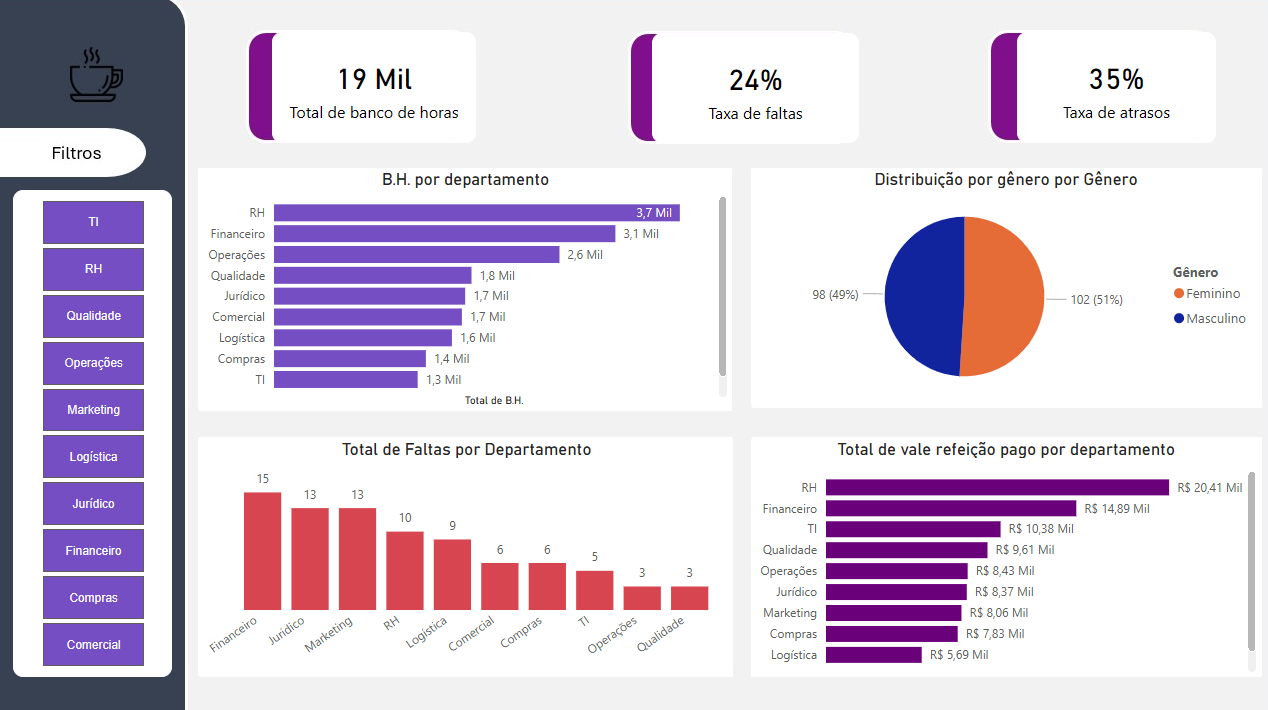

The dashboard page shown, as its layout file describes it:
{"tool":"powerbi","page":{"name":"Dashboard","canvas":[1280,720],"ordinal":0},"visuals":[{"type":"slicer","fields":{"Values":["planilha_rh_completa (2).Departamento"]},"box":[14,191,159,487],"z":0},{"type":"card","fields":{"Values":["planilha_rh_completa (2).Total de Banco de Horas"]},"box":[272.6,33.3,204.4,110.5],"z":1000},{"type":"card","fields":{"Values":["planilha_rh_completa (2).Medida"]},"box":[1017.5,33.3,199.9,110.5],"z":2000},{"type":"card","fields":{"Values":["planilha_rh_completa (2).Taxa de faltas"]},"box":[652.6,33.7,207.5,110],"z":3000},{"type":"barChart","title":"B.H. por departamento","fields":{"Category":["planilha_rh_completa (2).Departamento"],"Y":["planilha_rh_completa (2).Total de B.H."]},"box":[200.4,170.2,533,242.2],"z":4000},{"type":"pieChart","title":"Distribuição por gênero por Gênero","fields":{"Category":["planilha_rh_completa (2).Gênero"],"Y":["CountNonNull(planilha_rh_completa (2).Gênero)"]},"box":[751.9,170.2,509.7,235.4],"z":5000},{"type":"clusteredColumnChart","title":"Total de Faltas por Departamento","fields":{"Category":["planilha_rh_completa (2).Departamento"],"Y":["Sum(planilha_rh_completa (2).Faltas)"]},"box":[200.5,440,533.1,238.4],"z":6000},{"type":"barChart","title":"Total de vale refeição pago por departamento","fields":{"Category":["planilha_rh_completa (2).Departamento"],"Y":["Sum(planilha_rh_completa (2).Vale_Refeicao)"]},"box":[752,440,509.5,238.4],"z":7000}]}

Visuals, with their boxes in screenshot pixels (x1, y1, x2, y2), scaled from the page's 1280x720 canvas onto the 1268x710 screenshot:
slicer - planilha_rh_completa (2).Departamento: left=14, top=188, right=171, bottom=669
card - planilha_rh_completa (2).Total de Banco de Horas: left=270, top=33, right=473, bottom=142
card - planilha_rh_completa (2).Medida: left=1008, top=33, right=1206, bottom=142
card - planilha_rh_completa (2).Taxa de faltas: left=646, top=33, right=852, bottom=142
"B.H. por departamento" barChart: left=199, top=168, right=727, bottom=407
"Distribuição por gênero por Gênero" pieChart: left=745, top=168, right=1250, bottom=400
"Total de Faltas por Departamento" clusteredColumnChart: left=199, top=434, right=727, bottom=669
"Total de vale refeição pago por departamento" barChart: left=745, top=434, right=1250, bottom=669
